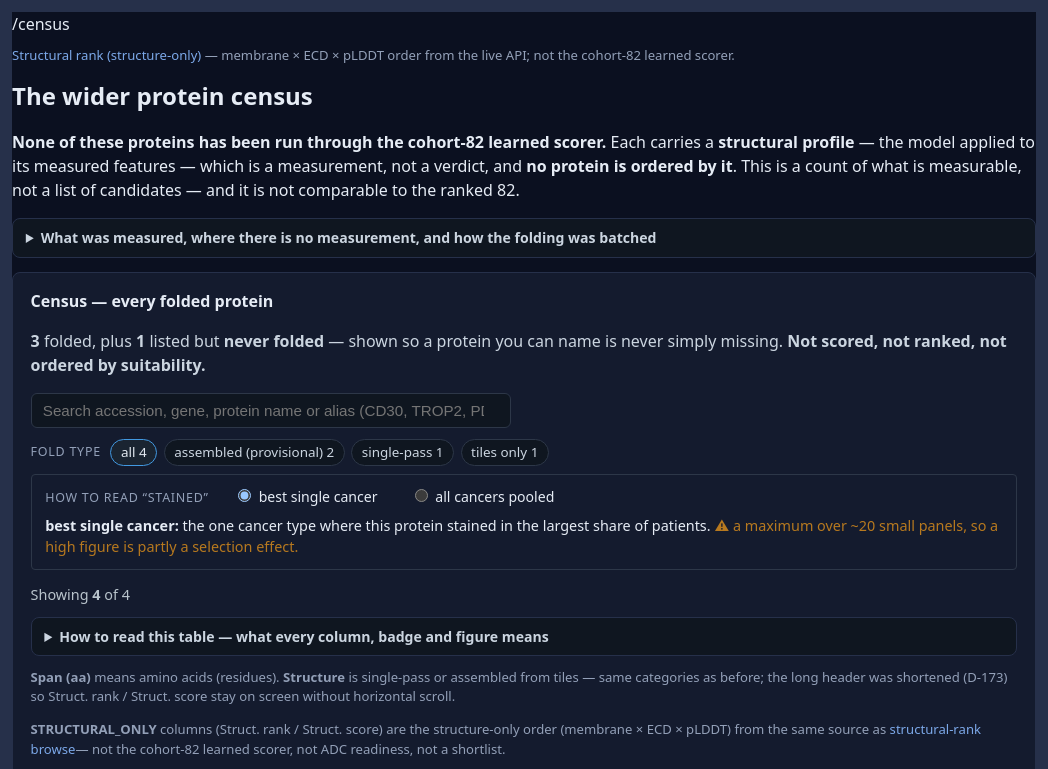
D-135 — pressing a chip writes the address › puts the chosen kind into the query string
Click the button "assembled (provisional) 2": x=254, y=453 top-left (164, 439), bottom-right (345, 466)
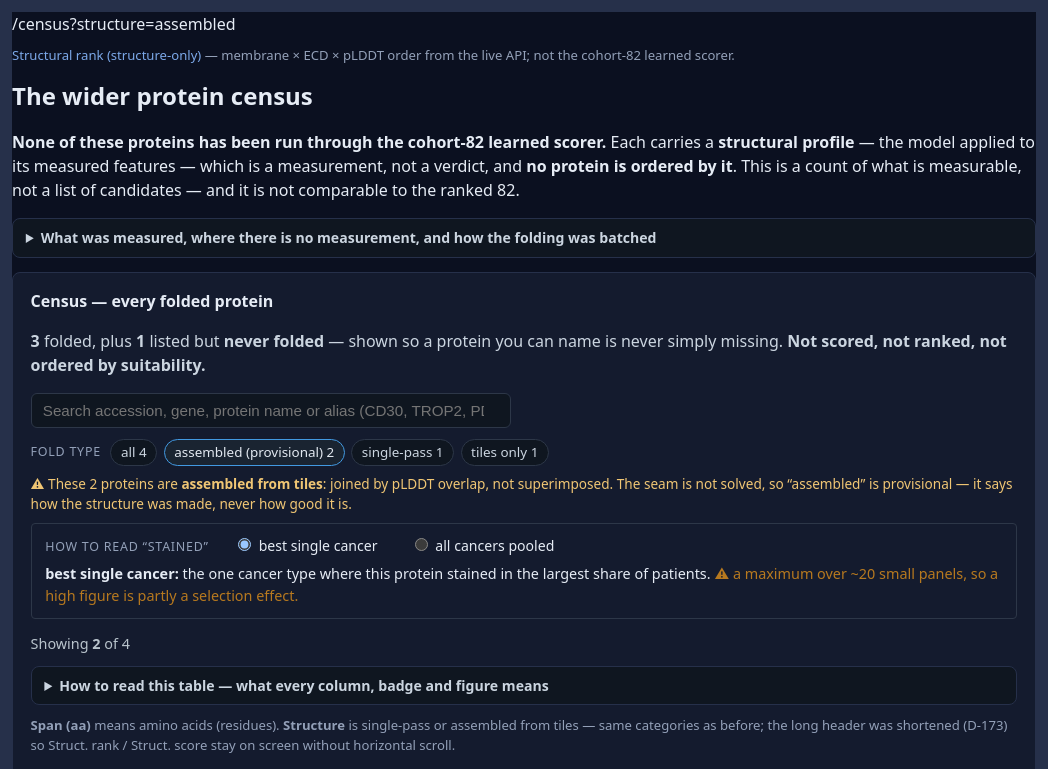
Result: the text with test id "address" reads "/census?structure=assembled" at top-left (12, 13), bottom-right (236, 35)
